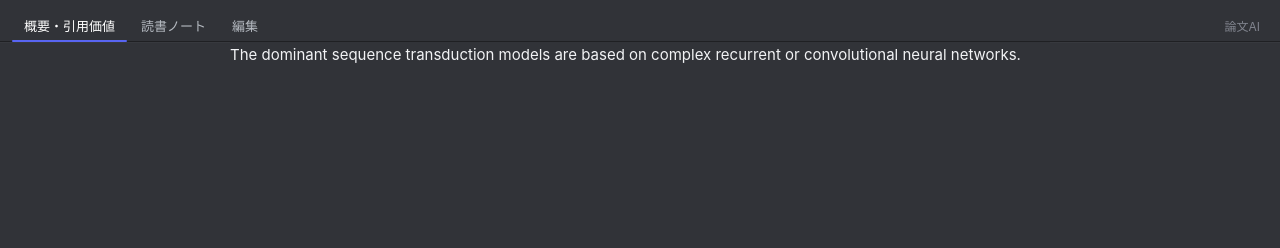
PaperViewer › shows empty state when no reading notes
Click the button "読書ノート": (174, 26) top-left (129, 12), bottom-right (218, 41)
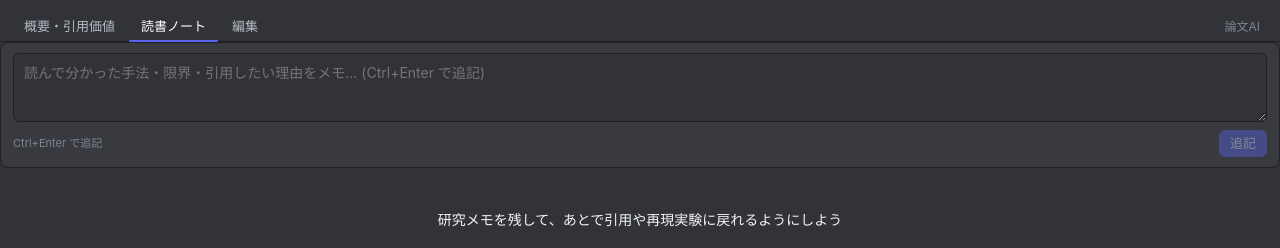
Result: the text "研究メモを残して、あとで引用や再現実験に戻れるようにしよう" is shown at top-left (438, 208), bottom-right (842, 232)
